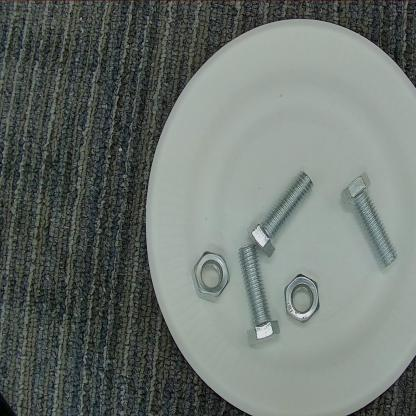FOD: (336, 167, 402, 274), (250, 163, 316, 258), (229, 240, 284, 351), (281, 264, 333, 330), (187, 245, 234, 304)
